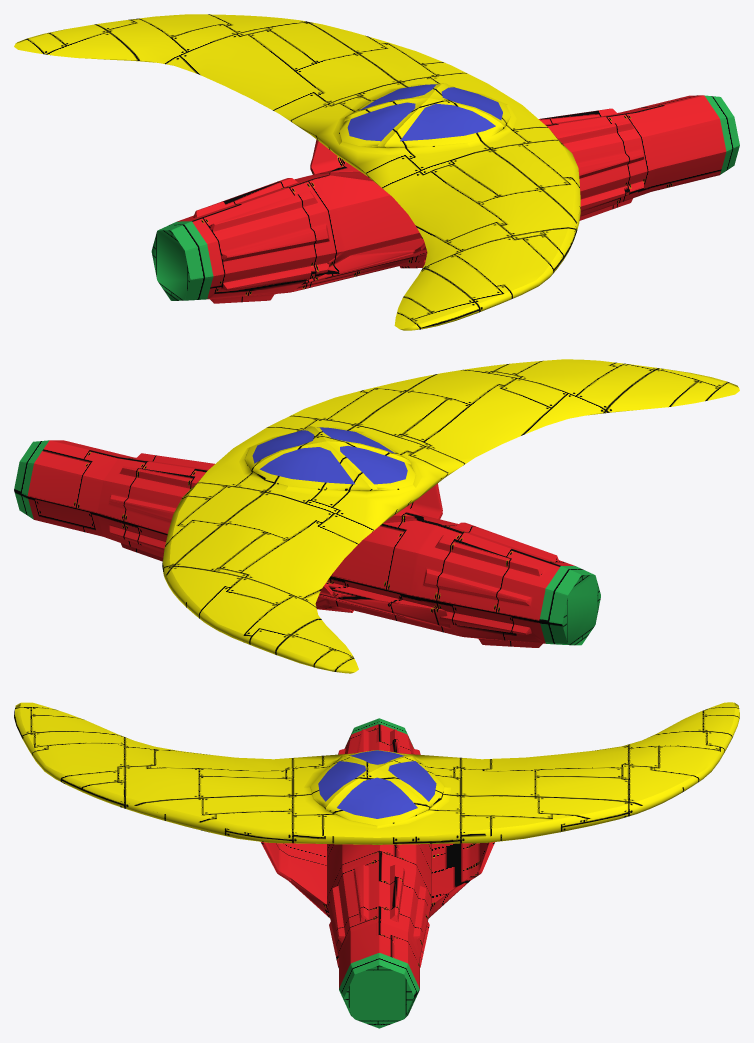
The model's file is Ship47b_single.FBX.
3 views of the same model, one above another, from view 1: azimuth 30°, elevation 25°; view 2: azimuth 150°, elevation 25°; view 3: azimuth 270°, elevation 25° (orthographic). The views are drawn at different scales.
Visible parts, largest first — view 1: Ship47_single001; view 2: Ship47_single001; view 3: Ship47_single001.
Boxes of the visible parts, x1=… form: Ship47_single001: x1=14, y1=14, x2=739, y2=330; Ship47_single001: x1=14, y1=359, x2=739, y2=673; Ship47_single001: x1=14, y1=702, x2=739, y2=1028.
Bounding box in the file's own units: 52.03 × 14.86 × 64.81.
Materials: 4 (4 with a texture image).
